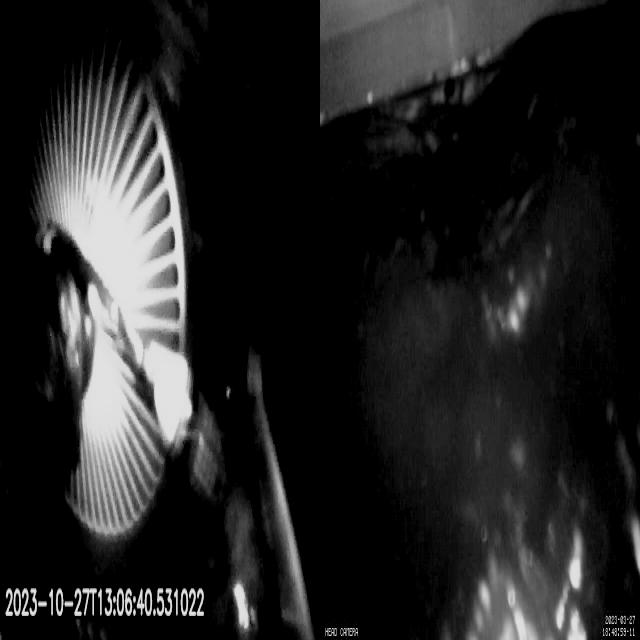head: (154, 342, 226, 509)
